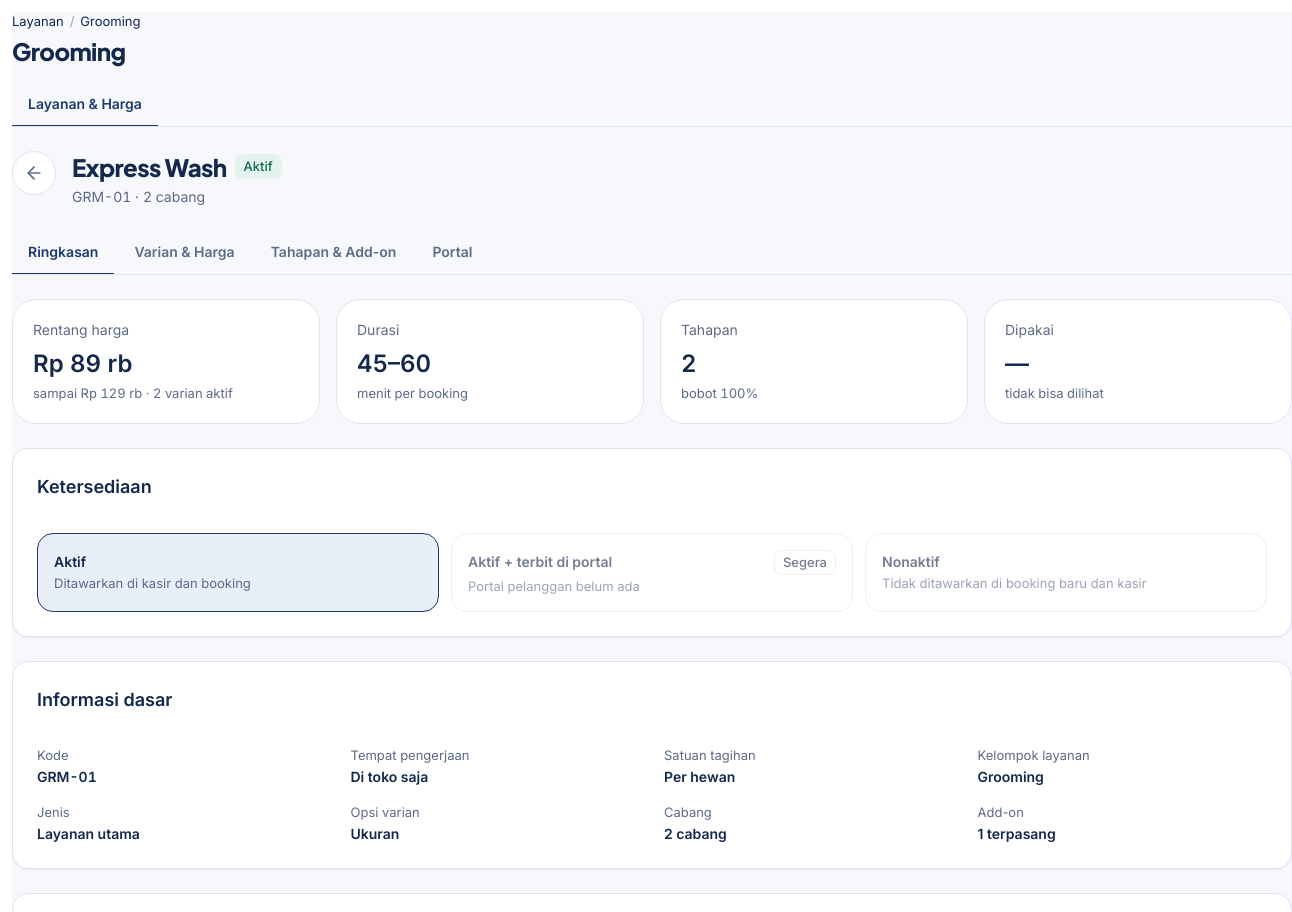
Scenario: GroomingServiceDetailScreen › lets a role that may only read see the grid but change nothing
Click the tab "Varian & Harga" at (184, 253), box [118,231,251,275]
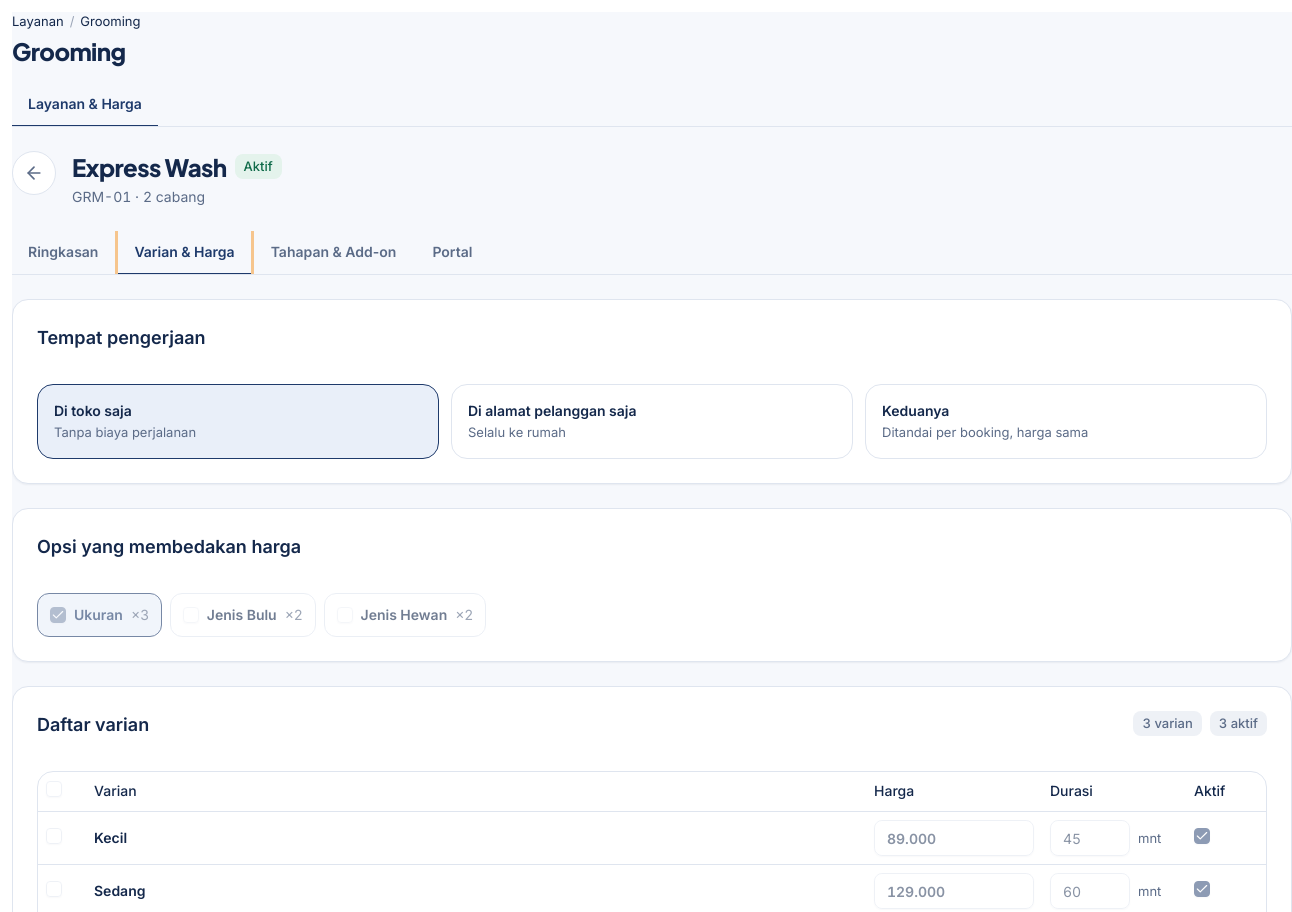
Check: the field named "Harga Kecil" is disabled, box [874,820,1034,856]
Check: the checkbox named "Kecil aktif" is disabled, box [1194,828,1210,844]
